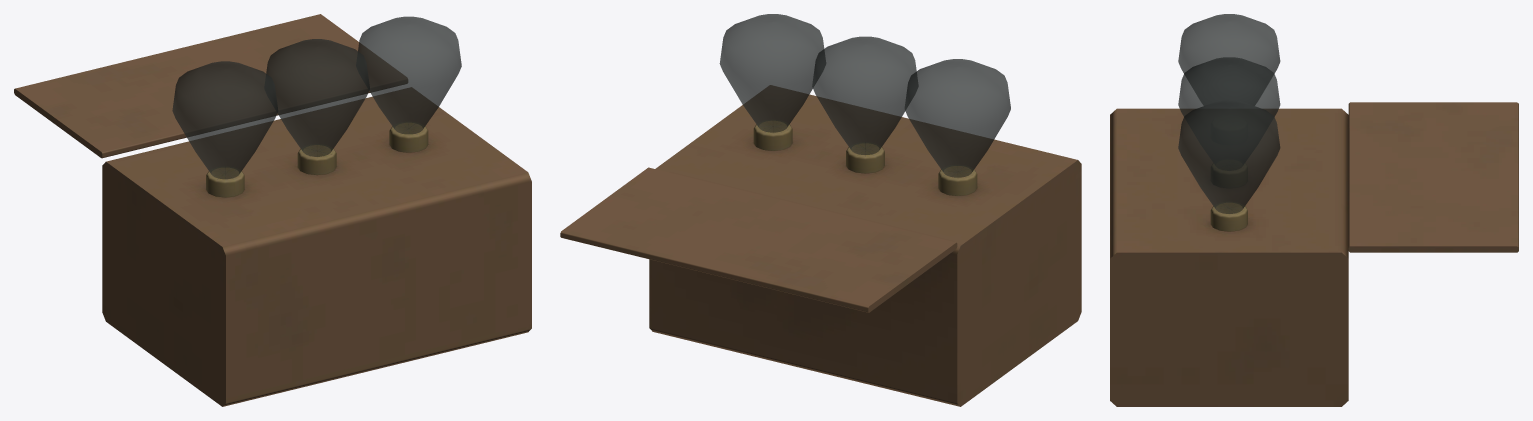
File: bulbs.glb
3 renders of one model, left to right at view 1: azimuth 30°, elevation 25°; view 2: azimuth 150°, elevation 25°; view 3: azimuth 270°, elevation 25°, orthographic. The views are drawn at different scales.
Visible parts, largest first — view 1: bulbs, bulbs_glass; view 2: bulbs, bulbs_glass; view 3: bulbs, bulbs_glass.
Boxes of the visible parts, x1,y1,x2,y2 form: bulbs: (14,14,531,406); bulbs_glass: (172,16,461,179); bulbs: (560,85,1081,406); bulbs_glass: (719,14,1010,177); bulbs: (1110,102,1518,406); bulbs_glass: (1178,14,1280,213).
Bounding box in the file's own units: 0.2 × 0.175 × 0.24.
Materials: 2 (1 with a texture image).
